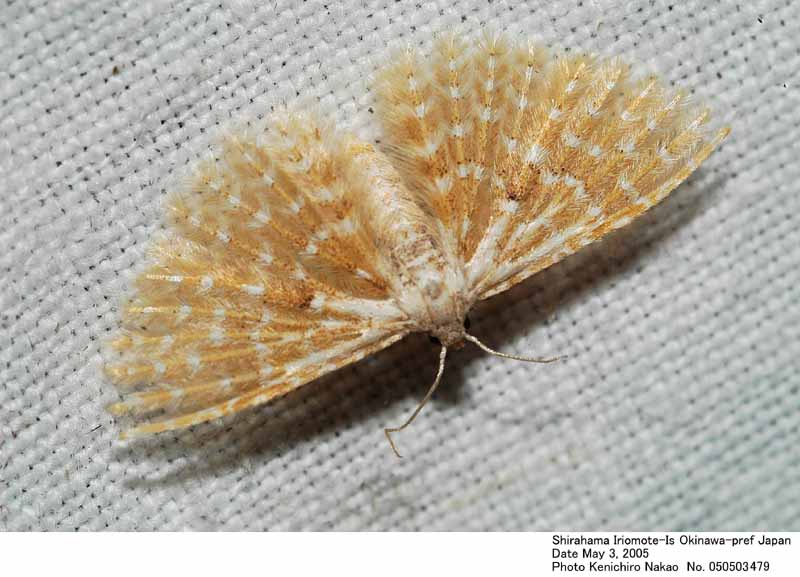Alucitidae: (83, 26, 723, 466)
moth: (94, 24, 734, 464)
